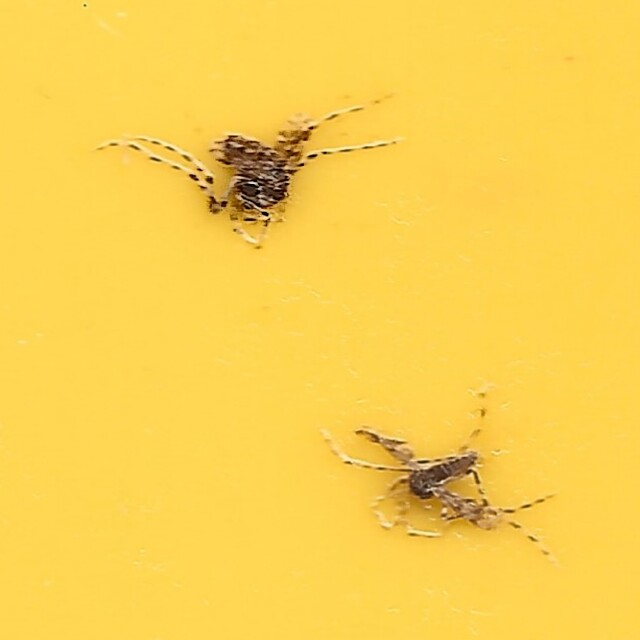Nematocera: (104, 90, 399, 236), (313, 387, 536, 550)
